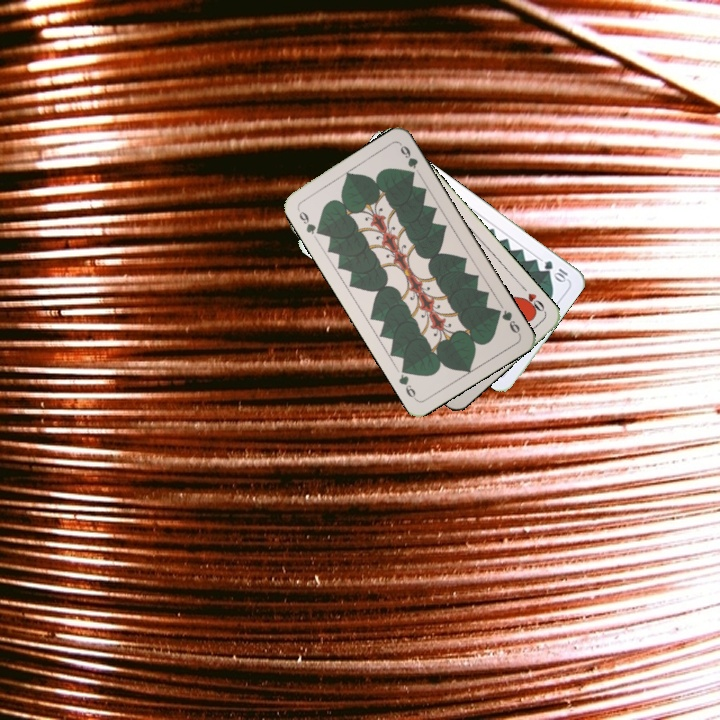G10: (540, 256, 570, 285)
G9: (293, 205, 325, 242), (491, 305, 523, 337)
HO: (517, 281, 548, 316)
